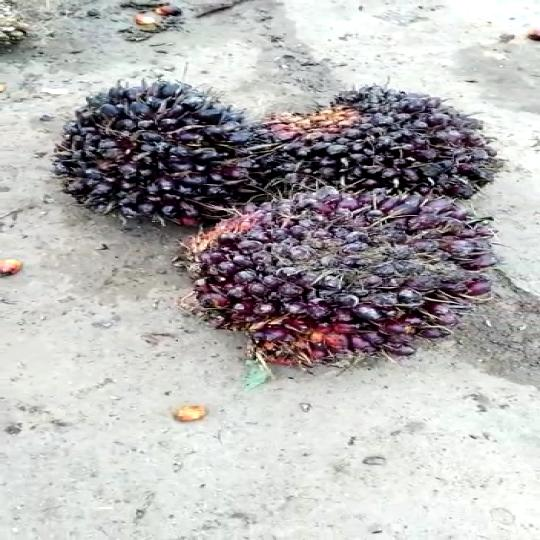kurang masak: (189, 186, 489, 373), (53, 75, 266, 221), (265, 82, 510, 196)
